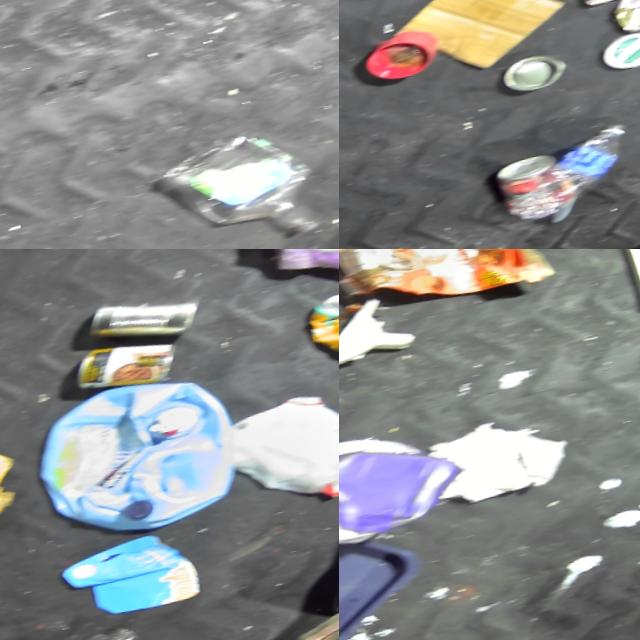can: (73, 284, 206, 363), (59, 333, 183, 408), (473, 155, 569, 231), (291, 289, 339, 380), (486, 55, 561, 107), (598, 0, 640, 48), (557, 0, 640, 21)
milk_jug: (212, 389, 339, 528)
non_white_jug: (10, 365, 250, 561), (339, 416, 472, 585)
plastic_bottle: (538, 128, 632, 206)
